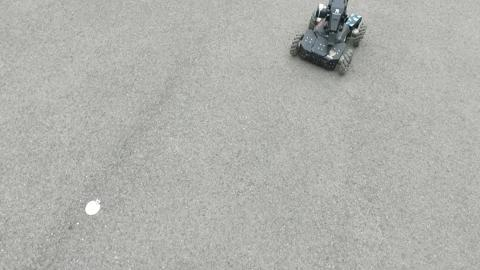chariot: (289, 1, 367, 76)
